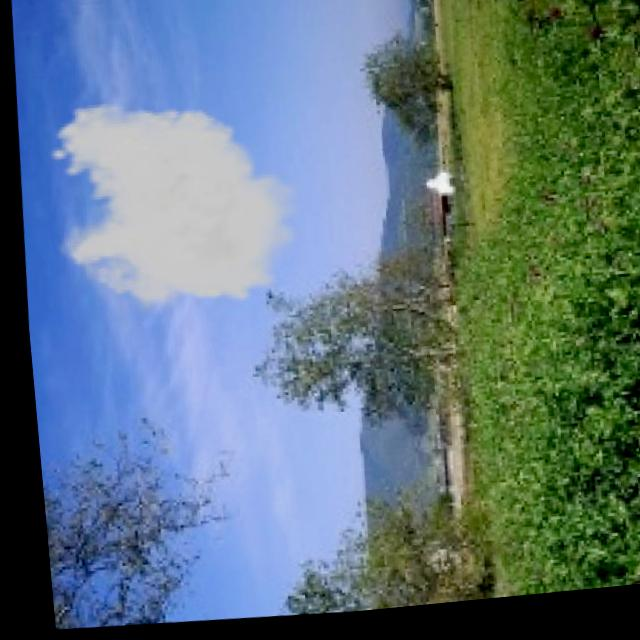Smoke: (43, 94, 306, 325)
